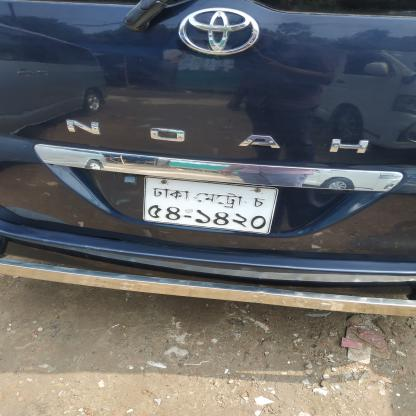license_plate: (115, 174, 312, 240)
